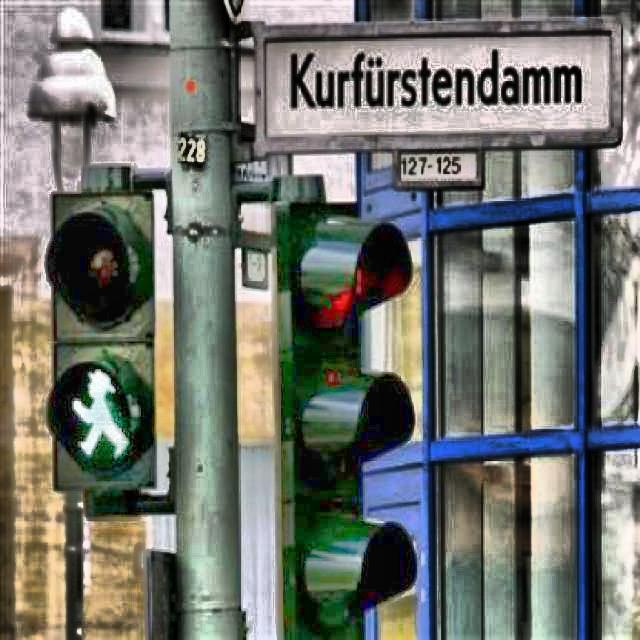semaforo pedestre: (7, 155, 195, 528)
